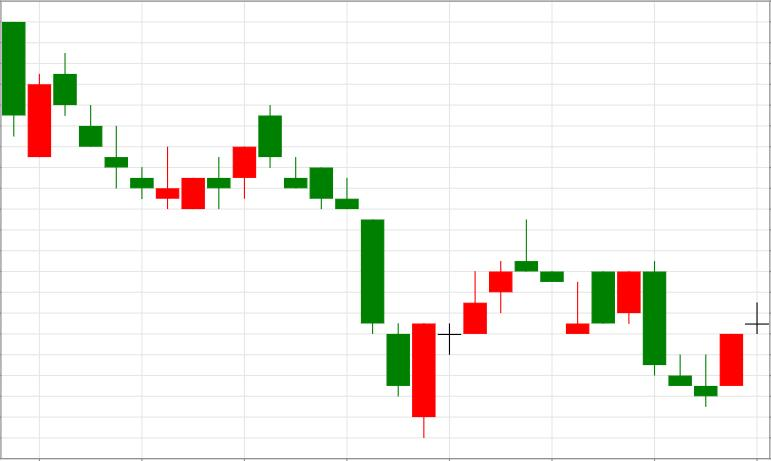bullish_engulfing_rise: (258, 106, 436, 437)
